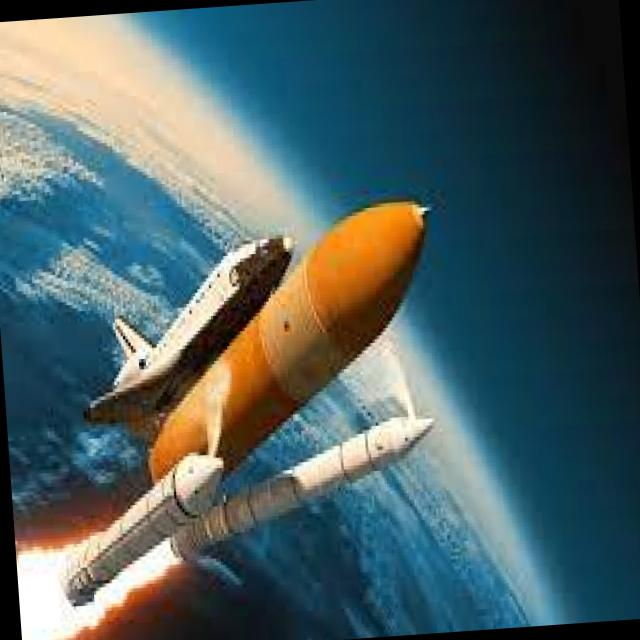rocket: (8, 196, 461, 640)
